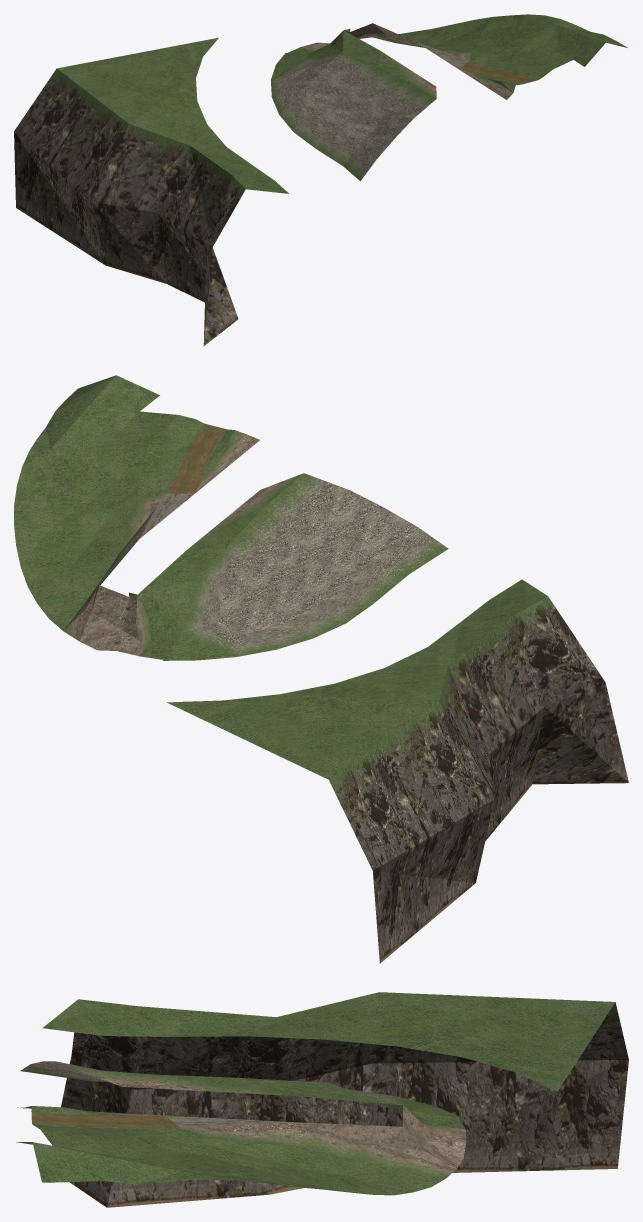
The model's file is ce_grndpalcst06.obj.
3 views of the same model, one above another, from view 1: azimuth 30°, elevation 25°; view 2: azimuth 150°, elevation 25°; view 3: azimuth 270°, elevation 25° (orthographic). The views are drawn at different scales.
Parts seen in each view (by area): view 1: CE_grndPALCST06; view 2: CE_grndPALCST06; view 3: CE_grndPALCST06.
Part boxes in pixels (box(x1,y1,x2,y2)): CE_grndPALCST06: box(14, 14, 627, 346); CE_grndPALCST06: box(14, 375, 628, 963); CE_grndPALCST06: box(16, 992, 628, 1207).
Size of the model in its own units: 132 by 62.33 by 109.
Materials: 9 (9 with a texture image).
